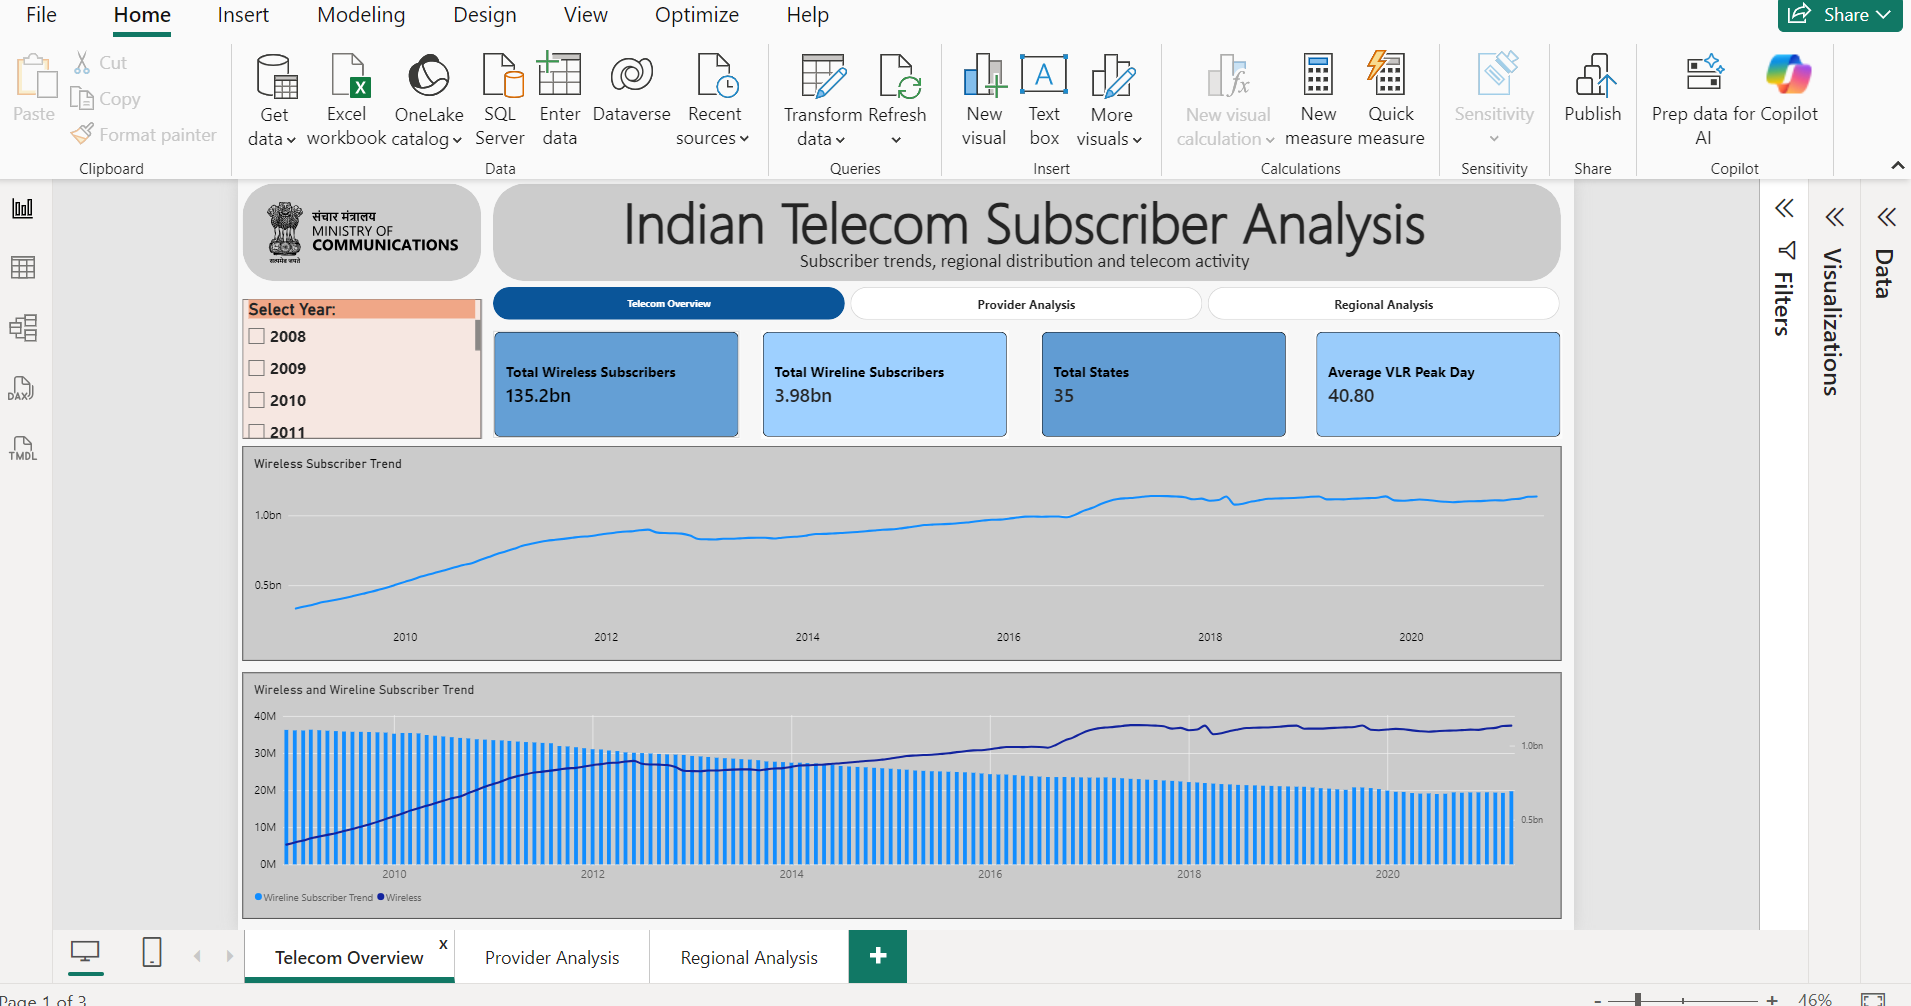

The page's visual inventory and layout, read from the dashboard file:
{"tool":"powerbi","page":{"name":"Telecom Overview","canvas":[1920,1080],"ordinal":0},"visuals":[{"type":"shape","box":[367.2,6.5,1535.8,140.4],"z":0},{"type":"textbox","box":[544.3,6.5,1175,114.5],"z":1000},{"type":"textbox","box":[803.5,101.5,657.5,55],"z":2000},{"type":"shape","box":[6.5,6.5,343.4,140.4],"z":3000},{"type":"image","box":[32.4,32.4,293.8,88.6],"z":4000},{"type":"cardVisual","fields":{"Data":["Sum(public vw_state_analysis.total_wireless_subscribers)"]},"box":[367.2,218.2,355,155.5],"z":5000},{"type":"cardVisual","fields":{"Data":["Sum(public vw_state_analysis.total_wireline_subscribers)"]},"box":[753.8,218.2,355,155.5],"z":6000},{"type":"cardVisual","fields":{"Data":["Avg(public vw_state_analysis.avg_vlr_peak_day)"]},"box":[1548.7,218.2,355,155.5],"z":7000},{"type":"lineChart","title":"Wireless Subscriber Trend","fields":{"Y":["Sum(public vw_monthly_subscriber_trend.total_wireless_subscribers)"],"Category":["public vw_monthly_subscriber_trend.month"]},"box":[6.5,384.5,1896.5,308.9],"z":8000},{"type":"lineClusteredColumnComboChart","title":"Wireless and Wireline Subscriber Trend","fields":{"Category":["public vw_monthly_subscriber_trend.month"],"Y":["Sum(public vw_monthly_subscriber_trend.total_wireline_subscribers)"],"Y2":["Sum(public vw_monthly_subscriber_trend.total_wireless_subscribers)"]},"box":[6.5,710.6,1896.5,354.2],"z":9000},{"type":"slicer","fields":{"Values":["public vw_monthly_subscriber_trend.month.Variation.Date Hierarchy.Year"]},"box":[6.5,172.8,343.4,200.9],"z":10000},{"type":"pageNavigator","box":[367.2,155.5,1535.8,47.5],"z":11000},{"type":"cardVisual","fields":{"Data":["State_Slicer.Total States"]},"box":[1153.4,218.2,355,155],"z":12000}]}

Visuals, with their boxes on the page's 1920x1080 design canvas (x1, y1, x2, y2). These are canvas units, not pixel positions in the 1911x1006 screenshot, which may show the page scaled, cropped or inside an application window:
shape: 367, 6, 1903, 147
textbox: 544, 6, 1719, 121
textbox: 804, 102, 1461, 156
shape: 6, 6, 350, 147
image: 32, 32, 326, 121
cardVisual - Sum(public vw_state_analysis.total_wireless_subscribers): 367, 218, 722, 374
cardVisual - Sum(public vw_state_analysis.total_wireline_subscribers): 754, 218, 1109, 374
cardVisual - Avg(public vw_state_analysis.avg_vlr_peak_day): 1549, 218, 1904, 374
"Wireless Subscriber Trend" lineChart: 6, 384, 1903, 693
"Wireless and Wireline Subscriber Trend" lineClusteredColumnComboChart: 6, 711, 1903, 1065
slicer - public vw_monthly_subscriber_trend.month.Variation.Date Hierarchy.Year: 6, 173, 350, 374
pageNavigator: 367, 156, 1903, 203
cardVisual - State_Slicer.Total States: 1153, 218, 1508, 373
